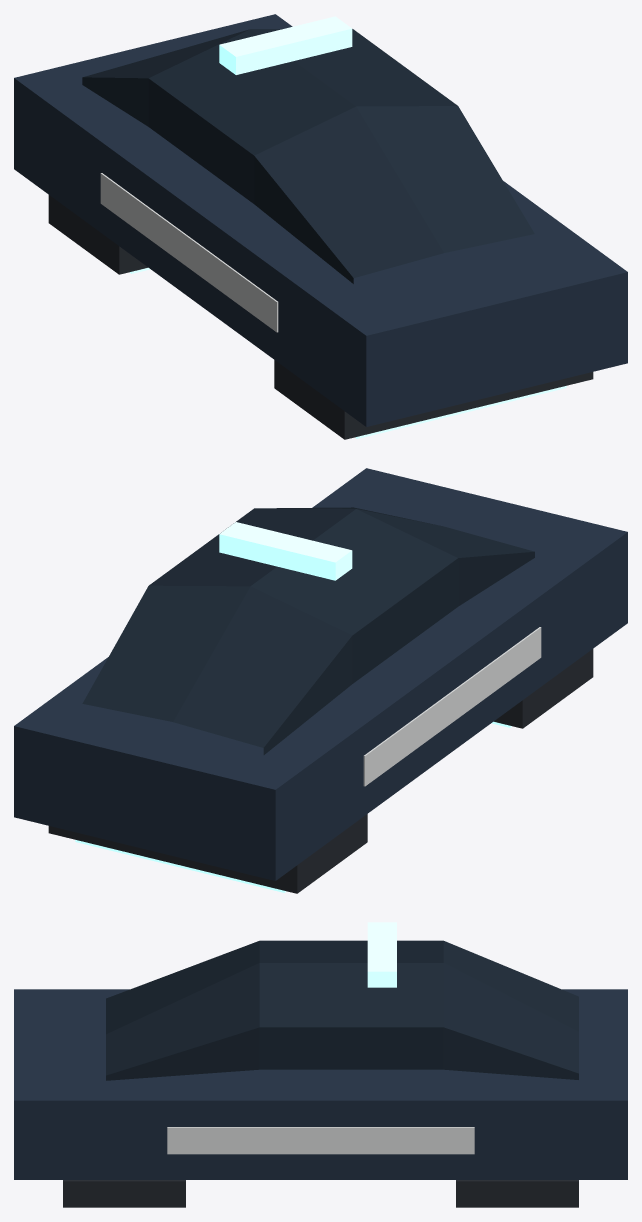
File: veh_ground_police_car_a10.glb
The picture shows the model from 3 angles, top to bottom: view 1: azimuth 30°, elevation 25°; view 2: azimuth 150°, elevation 25°; view 3: azimuth 270°, elevation 25°; orthographic projection. The views are drawn at different scales.
Visible parts, largest first — view 1: body; view 2: body; view 3: body.
Boxes of the visible parts, left/top/right/bottom form: body: left=14, top=14, right=627, bottom=439; body: left=14, top=468, right=627, bottom=893; body: left=14, top=922, right=627, bottom=1207.
Size of what is drawn, in the model's own units: 1.82 by 1.63 by 4.2.
